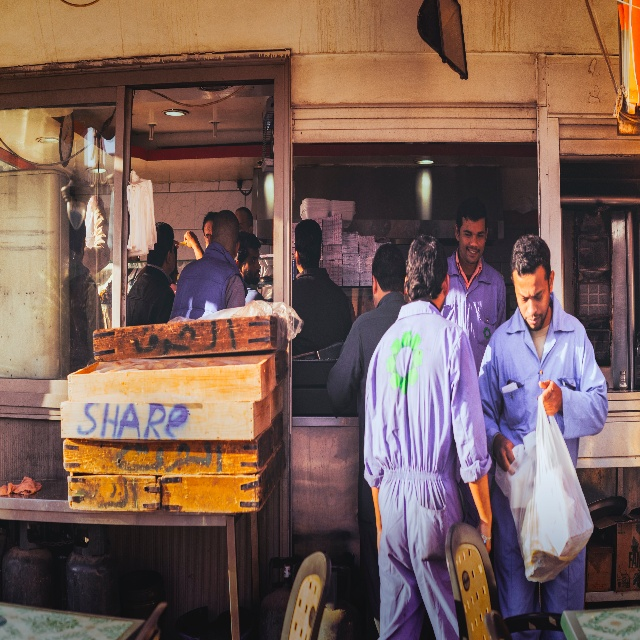Sin_guantes: (537, 377, 564, 420), (493, 434, 518, 474), (476, 518, 493, 551), (183, 230, 197, 249)
